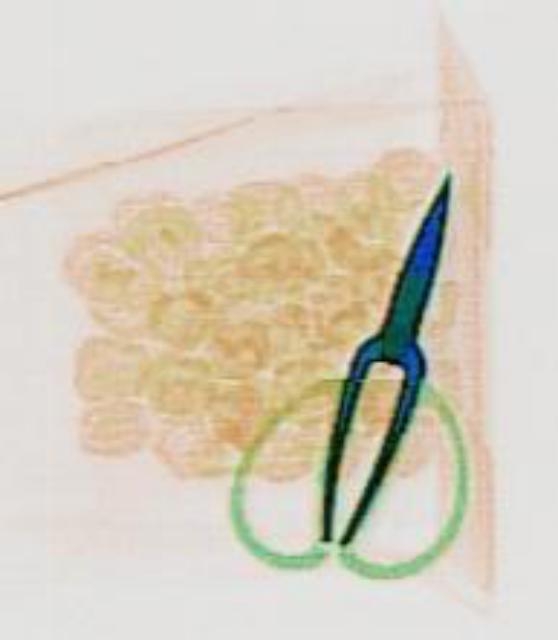Scissors: (207, 130, 553, 616)
